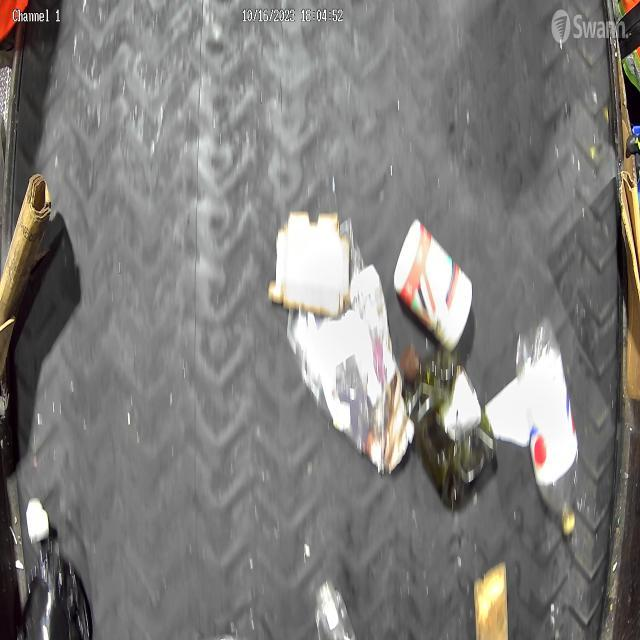plastic_bottle: (516, 313, 581, 540)
